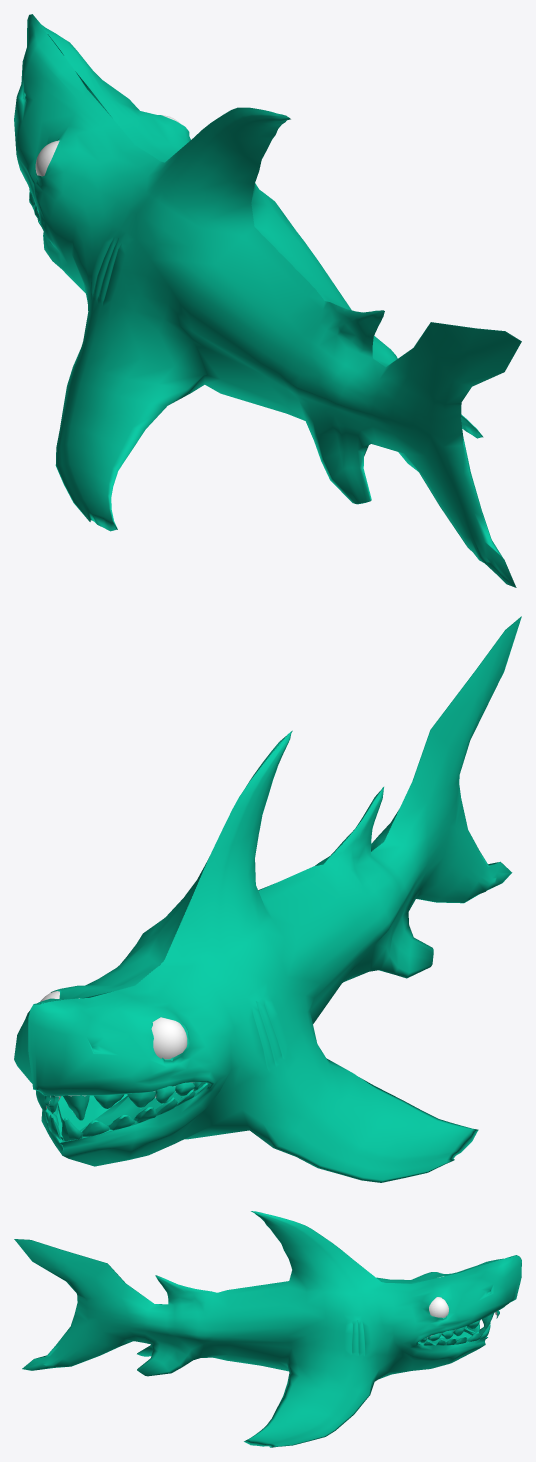
Rendered from shark model ver 2.FBX.
3 views of the same model, one above another, from view 1: azimuth 30°, elevation 25°; view 2: azimuth 150°, elevation 25°; view 3: azimuth 270°, elevation 25° (orthographic). The views are drawn at different scales.
Visible parts, largest first — view 1: shark body; view 2: shark body; view 3: shark body.
Boxes of the visible parts, box(x1,y1,x2,y2) form: shark body: box(14, 14, 521, 587); shark body: box(14, 616, 521, 1182); shark body: box(14, 1211, 521, 1447).
Bounding box in the file's own units: 78.45 × 75.66 × 182.
